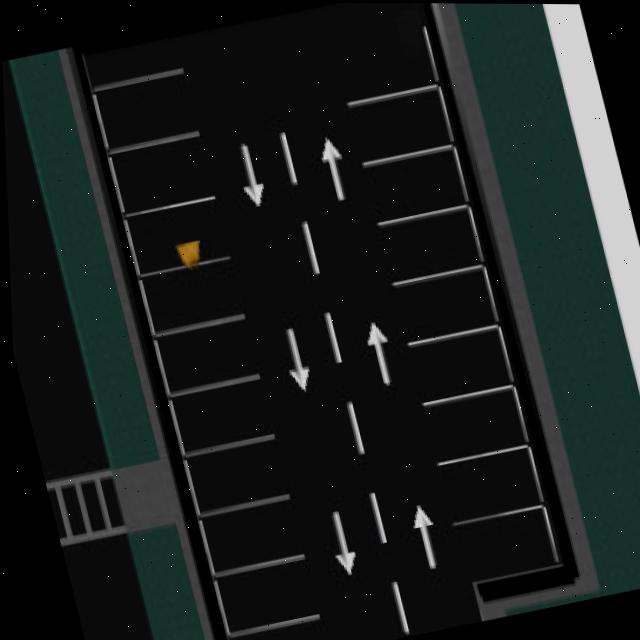garbage-trXY: (169, 235, 208, 271)
